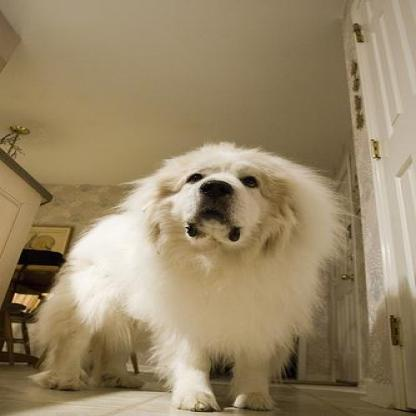Great_Pyrenees: (32, 141, 348, 409)
